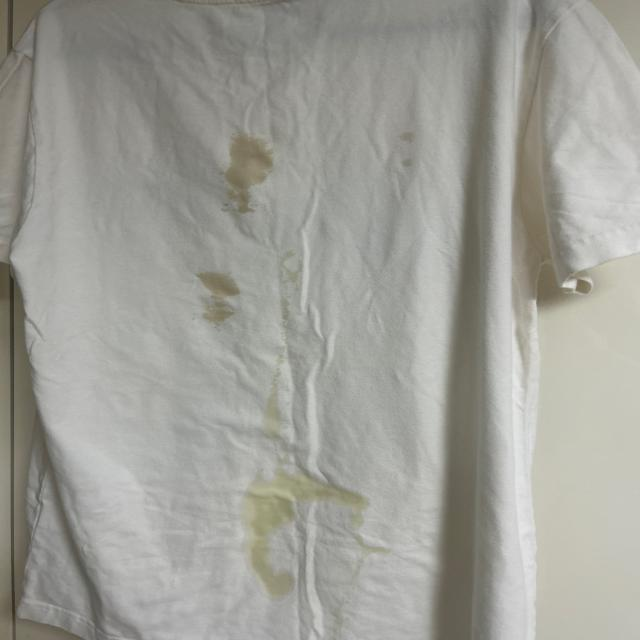stain: (235, 477, 364, 528), (230, 516, 298, 602), (216, 136, 280, 214), (189, 261, 250, 323), (257, 351, 297, 443), (376, 122, 419, 168), (343, 531, 397, 554), (271, 262, 309, 294)
